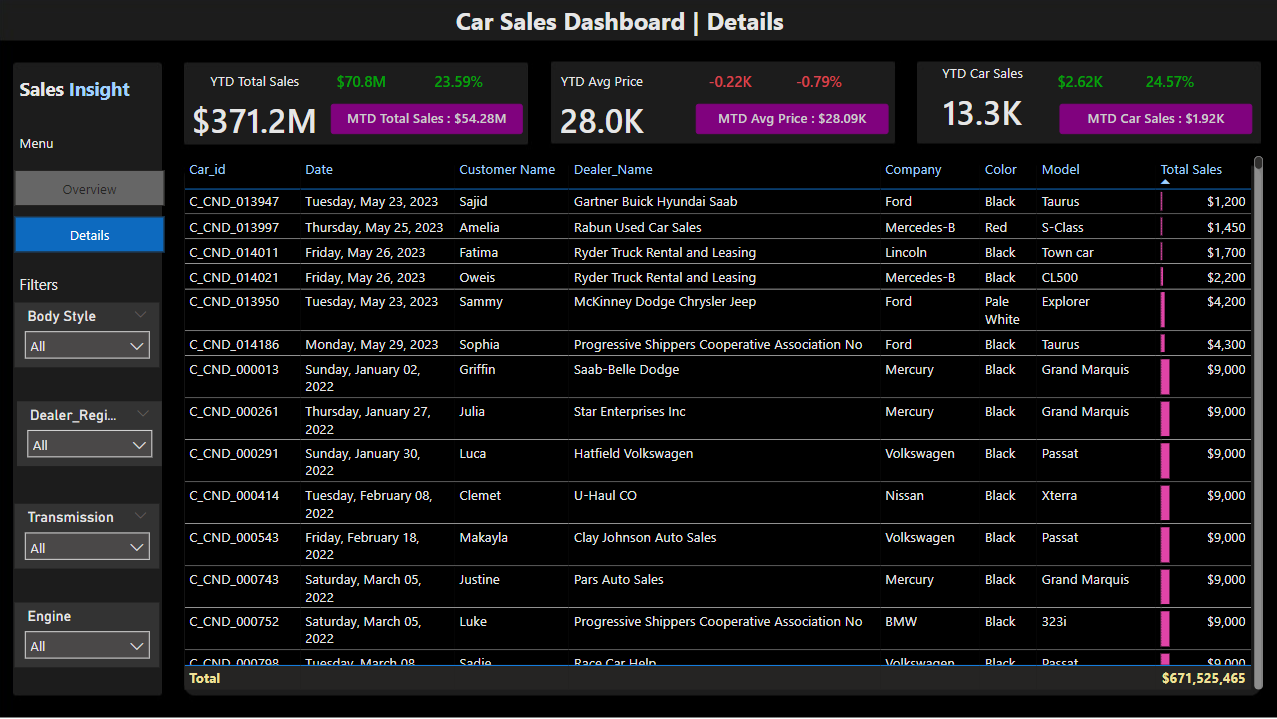

The page's visual inventory and layout, read from the dashboard file:
{"tool":"powerbi","page":{"name":"Details","canvas":[1280,720],"ordinal":1},"visuals":[{"type":"card","title":"YTD Total Sales","fields":{"Values":["car_data.YTD Total Sales"]},"box":[181.5,70.8,153.1,80],"z":0},{"type":"card","fields":{"Values":["car_data.Sales Difference"]},"box":[333.8,63.8,61.2,40],"z":1000},{"type":"card","fields":{"Values":["car_data.YoY Sales Growth (%)"]},"box":[431.2,63.8,61.2,40],"z":2000},{"type":"card","fields":{"Values":["car_data.MTD KPI"]},"box":[333.8,103.8,192,30],"z":3000},{"type":"card","title":"YTD Avg Price","fields":{"Values":["car_data.YTD AVG Price"]},"box":[529.2,70.8,152.3,80],"z":4000},{"type":"card","fields":{"Values":["car_data.Diff Avg Price"]},"box":[698.8,63.8,68.8,40],"z":5000},{"type":"card","fields":{"Values":["car_data.YoY Avg Price Growth"]},"box":[780,63.8,83.8,40],"z":6000},{"type":"card","fields":{"Values":["car_data.MTD Avg Price KPI"]},"box":[698.8,103.8,192.5,30],"z":7000},{"type":"card","title":"YTD Car Sales","fields":{"Values":["car_data.YTD Car Sold"]},"box":[908.8,63.8,153.8,80],"z":8000},{"type":"card","fields":{"Values":["car_data.Diff Car Sold"]},"box":[1052.5,63.8,61.2,40],"z":9000},{"type":"card","fields":{"Values":["car_data.YoY Car Sales Growth"]},"box":[1131.2,63.8,83.8,40],"z":10000},{"type":"card","fields":{"Values":["car_data.MTD Car Sales KPI"]},"box":[1062.5,103.8,192.5,30],"z":11000},{"type":"textbox","box":[453.8,0,372.5,42.5],"z":12000},{"type":"slicer","fields":{"Values":["car_data.Body Style"]},"box":[17.5,302.5,145,65],"z":13000},{"type":"slicer","fields":{"Values":["car_data.Dealer_Region"]},"box":[20,401.2,145,65],"z":14000},{"type":"slicer","fields":{"Values":["car_data.Transmission"]},"box":[17.5,503.8,145,65],"z":15000},{"type":"slicer","fields":{"Values":["car_data.Engine"]},"box":[17.5,602.5,145,65],"z":16000},{"type":"tableEx","fields":{"Values":["car_data.Car_id","car_data.Date","car_data.Customer Name","car_data.Dealer_Name","car_data.Company","car_data.Color","car_data.Model","car_data.Total Sales"]},"box":[181.2,151.2,1090,543.8],"z":18000},{"type":"textbox","box":[17.5,71.2,150,41.2],"z":19000},{"type":"textbox","box":[17.5,128.8,150,28.8],"z":20000},{"type":"pageNavigator","box":[17.5,170,150,82.5],"z":21000},{"type":"textbox","box":[17.5,268.8,62.5,33.8],"z":21001}]}

Visuals, with their boxes in screenshot pixels (x1, y1, x2, y2), scaled from the page's 1280x720 canvas onto the 1277x719 screenshot:
"YTD Total Sales" card: x1=181, y1=71, x2=334, y2=151
card - car_data.Sales Difference: x1=333, y1=64, x2=394, y2=104
card - car_data.YoY Sales Growth (%): x1=430, y1=64, x2=491, y2=104
card - car_data.MTD KPI: x1=333, y1=104, x2=525, y2=134
"YTD Avg Price" card: x1=528, y1=71, x2=680, y2=151
card - car_data.Diff Avg Price: x1=697, y1=64, x2=766, y2=104
card - car_data.YoY Avg Price Growth: x1=778, y1=64, x2=862, y2=104
card - car_data.MTD Avg Price KPI: x1=697, y1=104, x2=889, y2=134
"YTD Car Sales" card: x1=907, y1=64, x2=1060, y2=144
card - car_data.Diff Car Sold: x1=1050, y1=64, x2=1111, y2=104
card - car_data.YoY Car Sales Growth: x1=1129, y1=64, x2=1212, y2=104
card - car_data.MTD Car Sales KPI: x1=1060, y1=104, x2=1252, y2=134
textbox: x1=453, y1=0, x2=824, y2=42
slicer - car_data.Body Style: x1=17, y1=302, x2=162, y2=367
slicer - car_data.Dealer_Region: x1=20, y1=401, x2=165, y2=466
slicer - car_data.Transmission: x1=17, y1=503, x2=162, y2=568
slicer - car_data.Engine: x1=17, y1=602, x2=162, y2=667
tableEx - car_data.Car_id x car_data.Date: x1=181, y1=151, x2=1268, y2=694
textbox: x1=17, y1=71, x2=167, y2=112
textbox: x1=17, y1=129, x2=167, y2=157
pageNavigator: x1=17, y1=170, x2=167, y2=252
textbox: x1=17, y1=268, x2=80, y2=302
